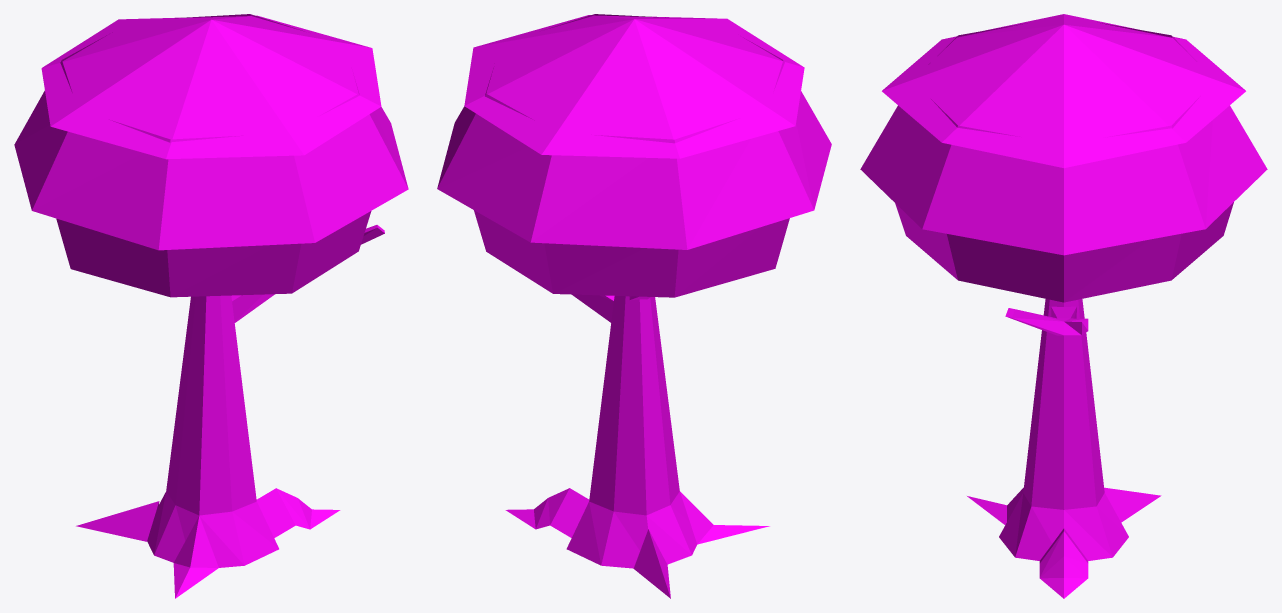
The model's file is tree_for_rope.obj.
3 renders of one model, left to right at view 1: azimuth 30°, elevation 25°; view 2: azimuth 150°, elevation 25°; view 3: azimuth 270°, elevation 25°, orthographic.
Parts seen in each view (by area): view 1: tree_for_rope_front, tree_for_rope_back; view 2: tree_for_rope_front, tree_for_rope_back; view 3: tree_for_rope_front, tree_for_rope_back.
Part boxes in pixels (box(x1,y1,x2,y2)): tree_for_rope_front: box(14, 14, 408, 297); tree_for_rope_back: box(76, 225, 384, 598); tree_for_rope_front: box(437, 14, 831, 297); tree_for_rope_back: box(505, 294, 769, 598); tree_for_rope_front: box(860, 14, 1267, 302); tree_for_rope_back: box(967, 299, 1161, 598).
Bounding box in the file's own units: 2.5 × 3.47 × 2.5.
